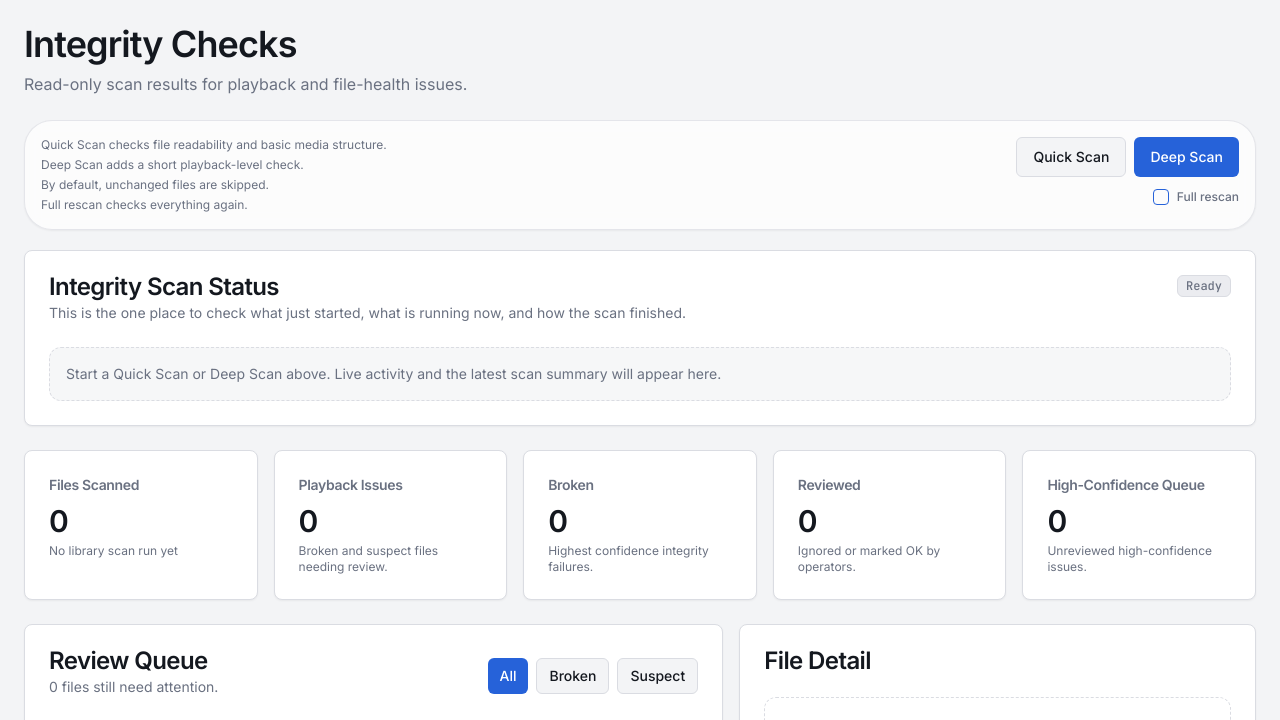
Test: IntegrityPage › keeps the last scan summary visible after completion
Click the button "Quick Scan": coordinates (1071, 157) [1016,137,1126,177]
(page scrolled)
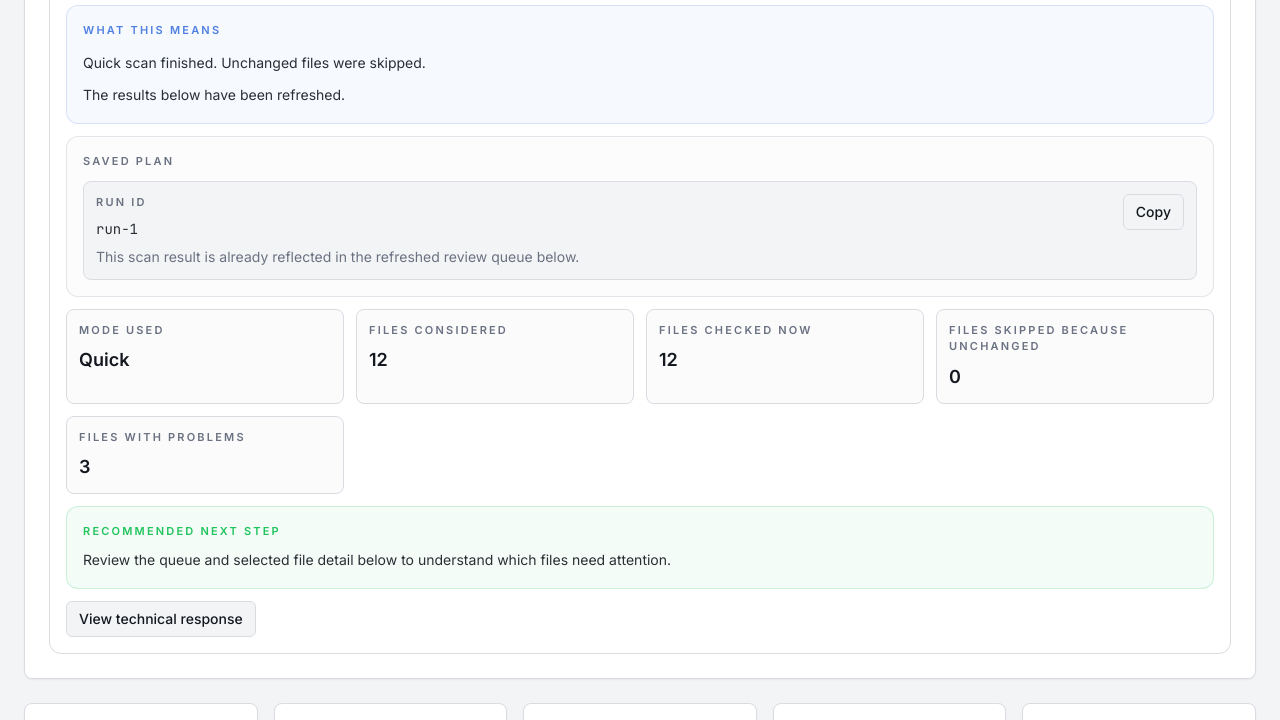
Now the text "Quick scan finished. Unchanged files were skipped." is shown, box [83,54,426,70]
Now the text "Quick" is shown, box [79,349,129,370]
